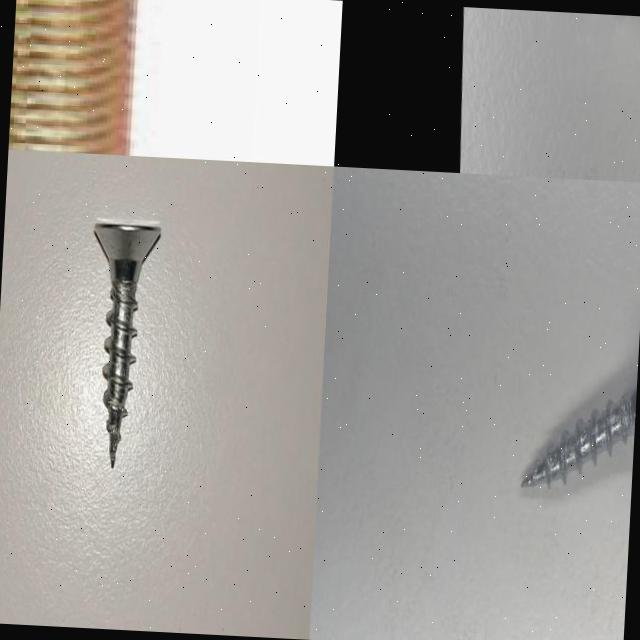Screw: (8, 0, 136, 156), (95, 218, 161, 467), (521, 374, 638, 487)
